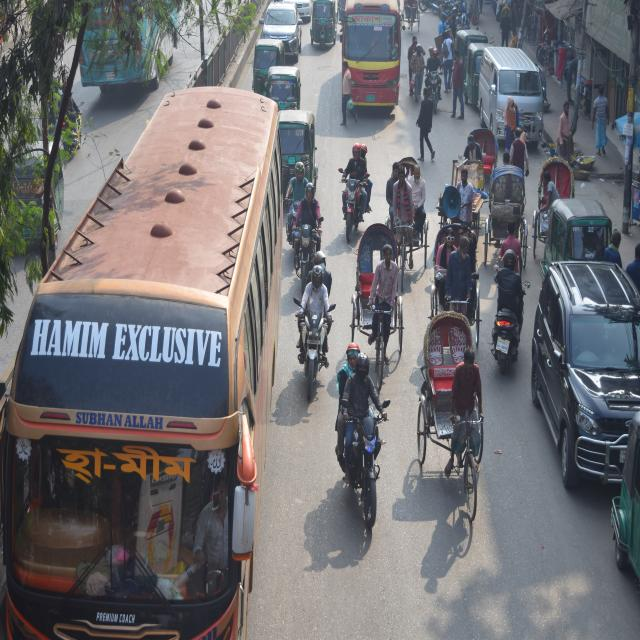bus: (6, 36, 253, 634), (475, 36, 561, 150), (340, 0, 409, 128)
car: (529, 256, 640, 488)
motorbike: (328, 346, 392, 501), (491, 228, 535, 374), (296, 254, 335, 380), (337, 143, 383, 235), (290, 186, 329, 282)
